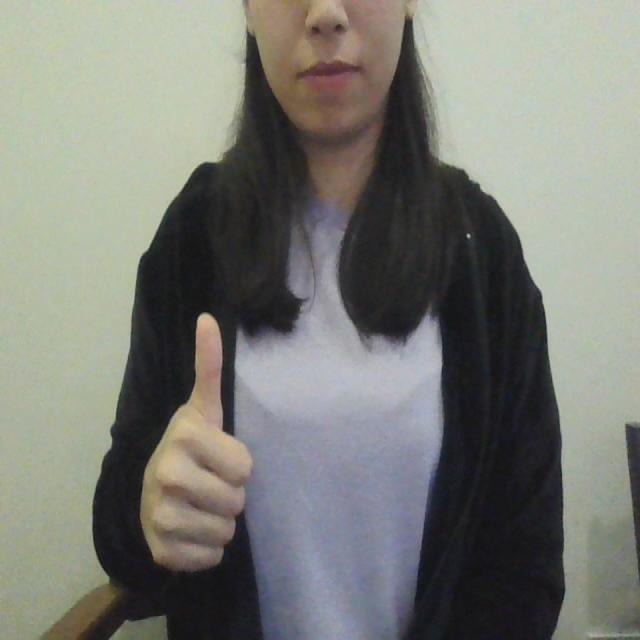Tamam: (130, 299, 258, 587)
